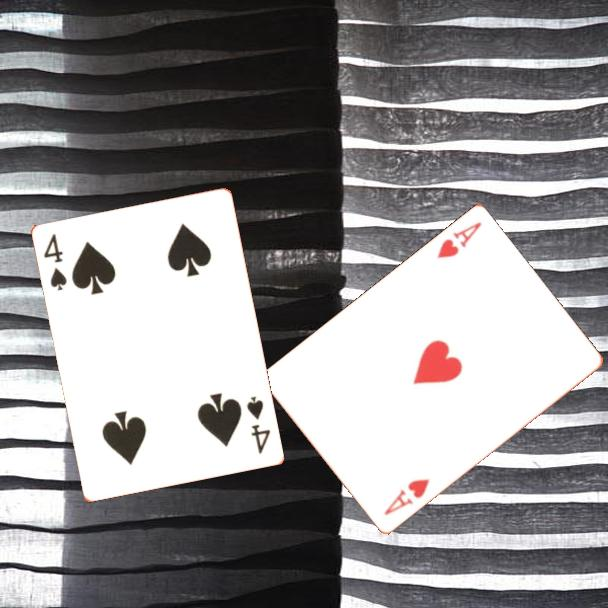h01: (381, 476, 432, 519), (433, 219, 484, 262)
s04: (243, 392, 273, 457), (40, 230, 69, 293)
